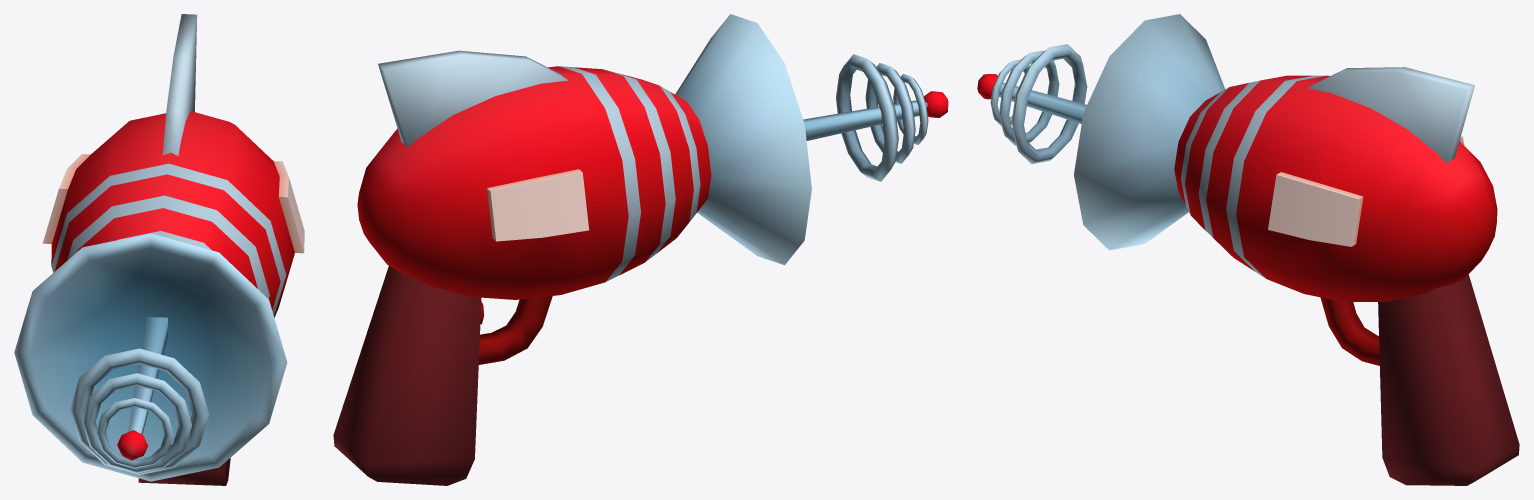
File: LaserPistol.fbx
The picture shows the model from 3 angles, left to right: view 1: azimuth 30°, elevation 25°; view 2: azimuth 150°, elevation 25°; view 3: azimuth 270°, elevation 25°; orthographic projection. The views are drawn at different scales.
Visible parts, largest first — view 1: LaserPistol; view 2: LaserPistol; view 3: LaserPistol.
Part boxes in pixels (x1=…): LaserPistol: x1=14, y1=14, x2=304, y2=485; LaserPistol: x1=333, y1=14, x2=948, y2=485; LaserPistol: x1=977, y1=14, x2=1519, y2=485.
Size of the model in its own units: 2022 by 2209 by 2739.
1 material, 1 textured.
